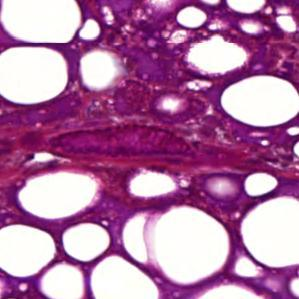steatosis: (0, 43, 69, 106), (222, 75, 299, 129), (0, 222, 58, 277), (62, 221, 109, 266)
